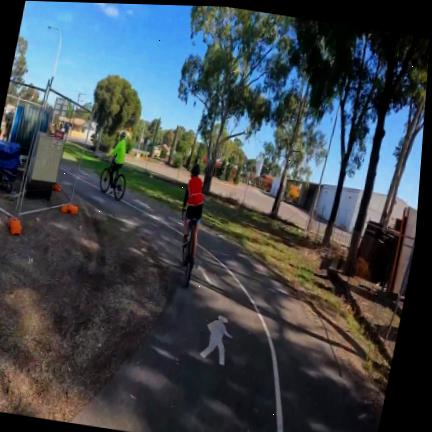Bike_Lane: (76, 174, 379, 432)
